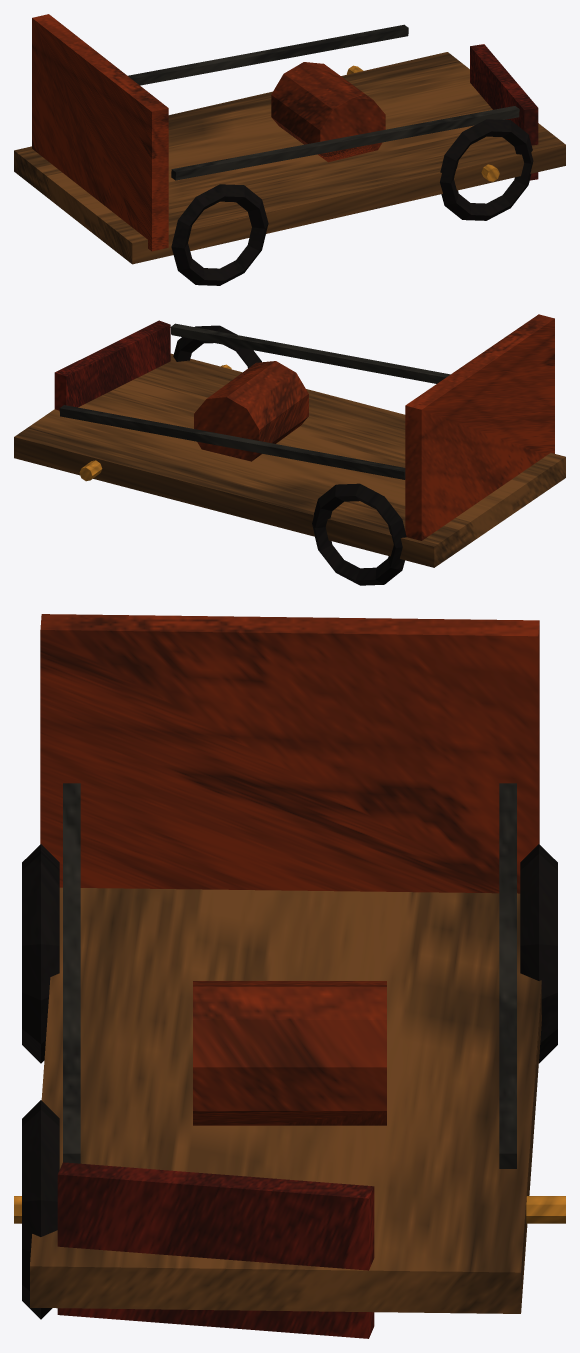
File: hauler-bed-north-a.glb
3 renders of one model, top to bottom at view 1: azimuth 30°, elevation 25°; view 2: azimuth 150°, elevation 25°; view 3: azimuth 270°, elevation 25°, orthographic. The views are drawn at different scales.
Parts seen in each view (by area): view 1: hauler-bed-north-a; view 2: hauler-bed-north-a; view 3: hauler-bed-north-a.
Boxes of the visible parts, x1,y1,x2,y2 form: hauler-bed-north-a: (14,14,565,285); hauler-bed-north-a: (14,314,565,585); hauler-bed-north-a: (14,614,565,1338).
Bounding box in the file's own units: 7.31 × 3.07 × 4.1.
1 material, 1 textured.
